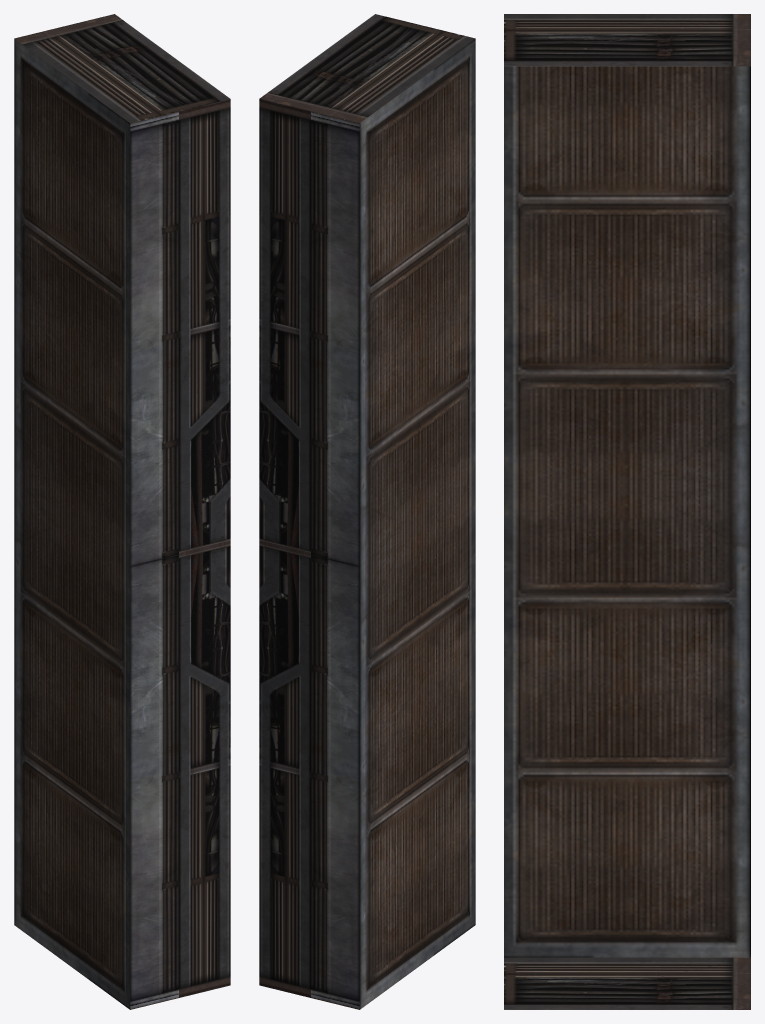
The model's file is Pillar_02.fbx.
3 views of the same model, side by side, from view 1: azimuth 30°, elevation 25°; view 2: azimuth 150°, elevation 25°; view 3: azimuth 270°, elevation 25° (orthographic). The views are drawn at different scales.
Visible parts, largest first — view 1: Pillar_02; view 2: Pillar_02; view 3: Pillar_02.
Part boxes in pixels (bbox=[...]): Pillar_02: bbox=[14, 14, 230, 1009]; Pillar_02: bbox=[259, 14, 475, 1009]; Pillar_02: bbox=[504, 14, 750, 1009].
Bounding box in the file's own units: 50.08 × 422 × 100.
Materials: 1 (1 with a texture image).
